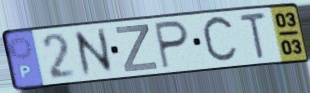2: (40, 32, 79, 82)
C: (200, 13, 241, 67)
N: (70, 26, 117, 80)
P: (152, 19, 191, 71)
T: (237, 10, 269, 61)
Z: (114, 23, 161, 74)
